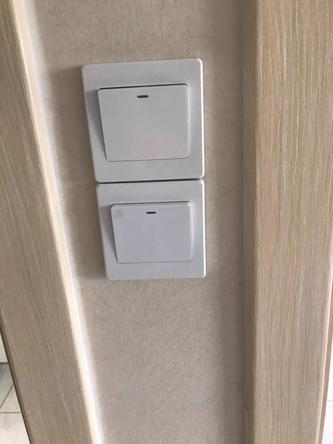switch: (94, 79, 192, 164), (109, 199, 199, 264)
